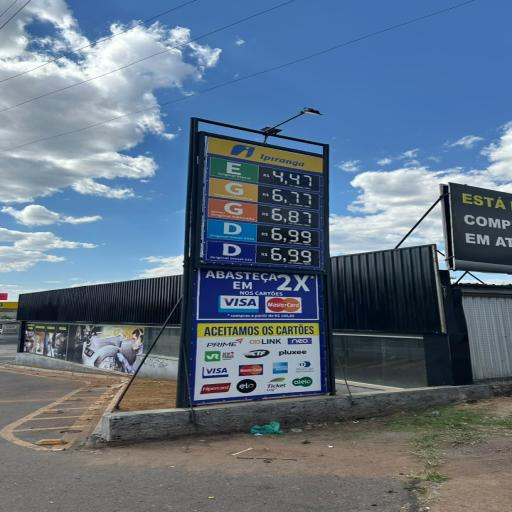ETANOL: (212, 158, 257, 182)
GASOLINA AD: (209, 197, 257, 221)
GASOLINA C: (210, 176, 258, 202)
S10: (207, 240, 255, 262)
S500: (207, 219, 257, 241)
placa: (204, 137, 323, 272)
preco: (269, 224, 314, 246), (273, 167, 316, 190), (269, 206, 315, 226), (270, 245, 315, 265), (270, 186, 315, 206)
